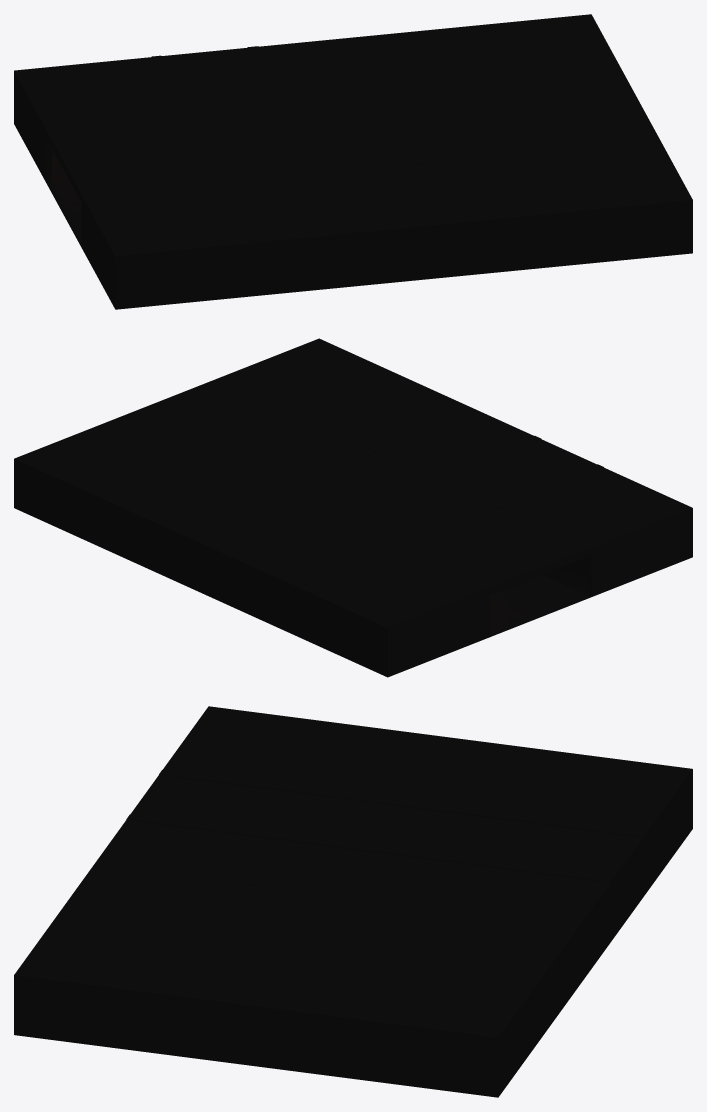
File: MUSIC_compressed.glb
3 views of the same model, one above another, from view 1: azimuth 30°, elevation 25°; view 2: azimuth 150°, elevation 25°; view 3: azimuth 270°, elevation 25° (orthographic). The views are drawn at different scales.
Visible parts, largest first — view 1: GARAJE; view 2: GARAJE; view 3: GARAJE.
Part boxes in pixels (x1,y1,x2,y2): GARAJE: (14, 14, 692, 309); GARAJE: (14, 338, 692, 677); GARAJE: (14, 706, 692, 1097).
Size of the model in its own units: 54.19 by 4.72 by 46.91.
24 materials, 22 textured.
